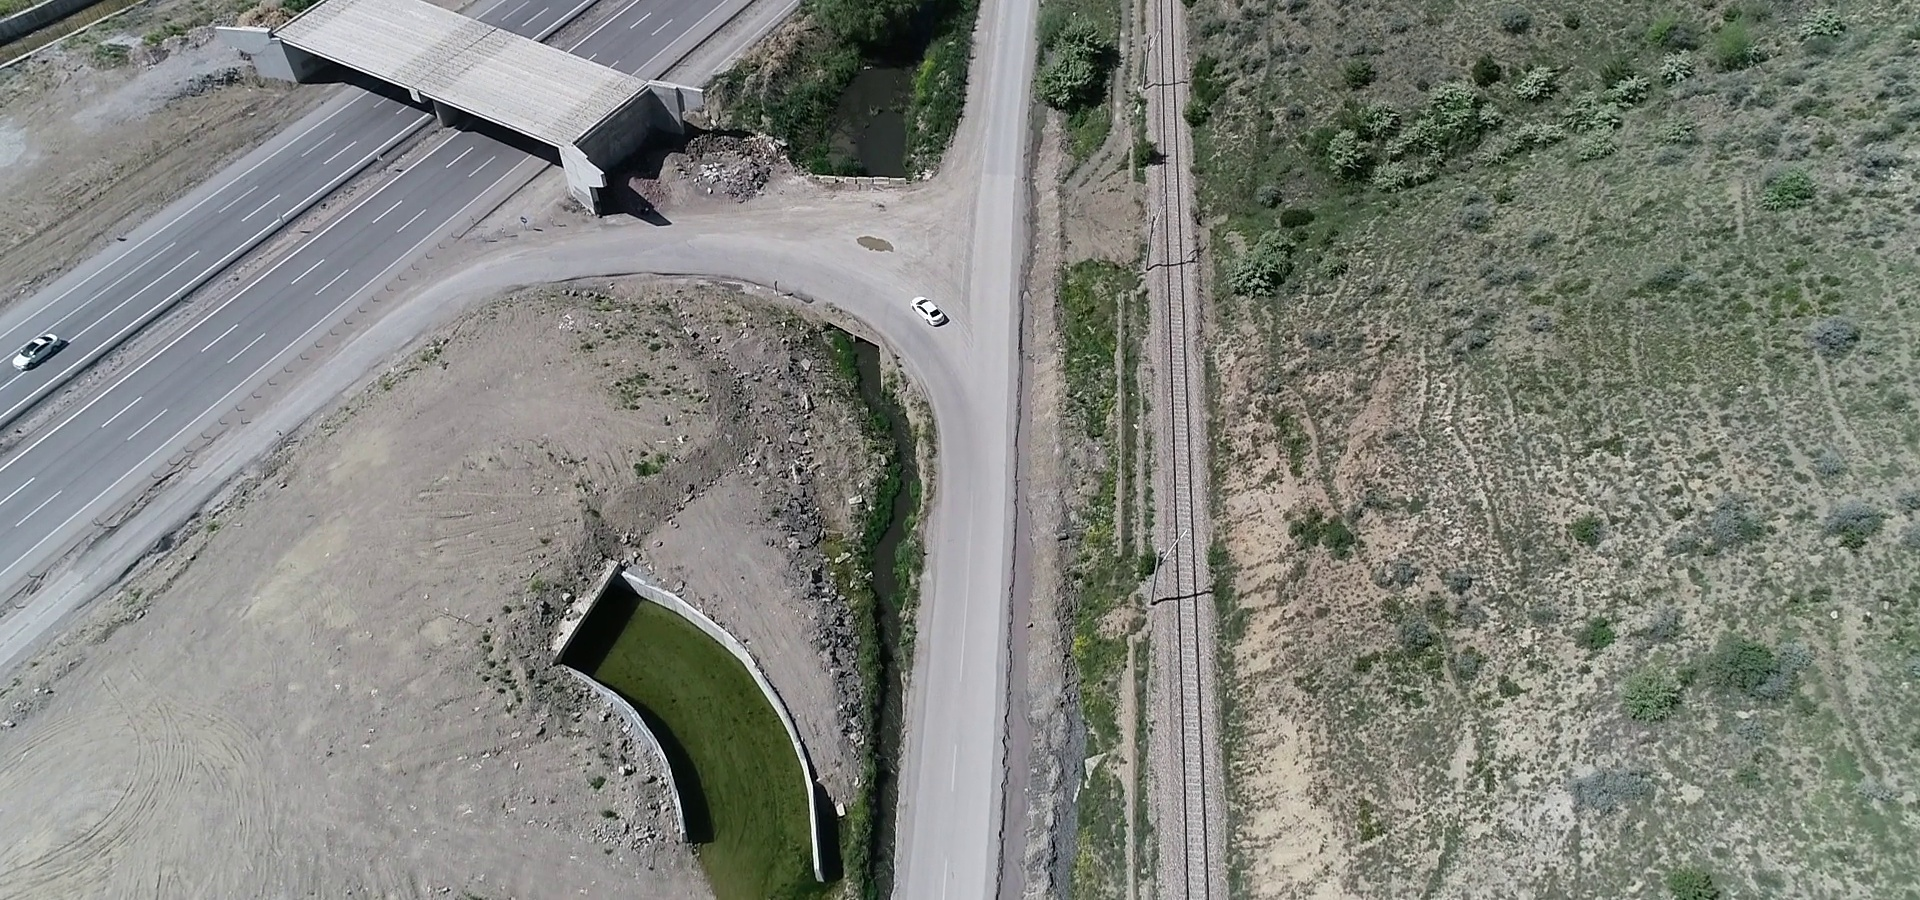araba: (7, 320, 83, 383), (907, 290, 958, 324)
